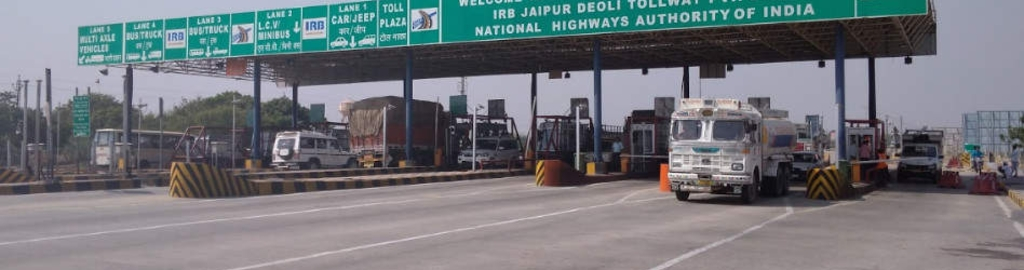toll plaza: (79, 1, 954, 83)
